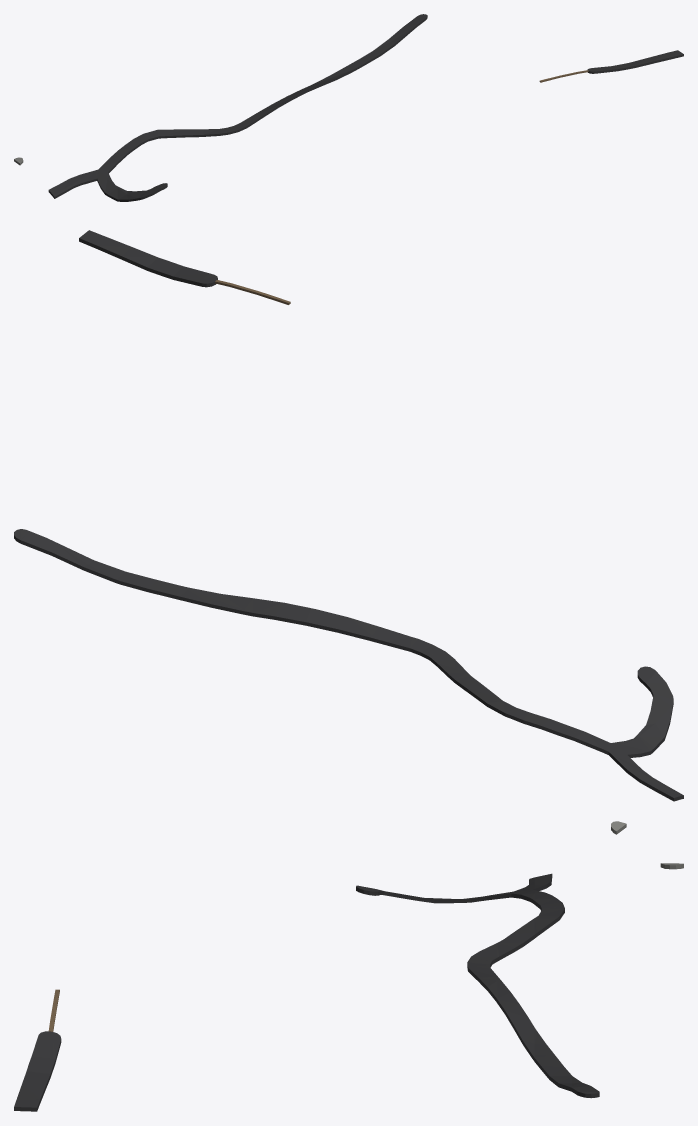
The picture shows the model from 3 angles, top to bottom: view 1: azimuth 30°, elevation 25°; view 2: azimuth 150°, elevation 25°; view 3: azimuth 270°, elevation 25°; orthographic projection. The views are drawn at different scales.
Bounding box in the file's own units: 293 × 70 × 181.
